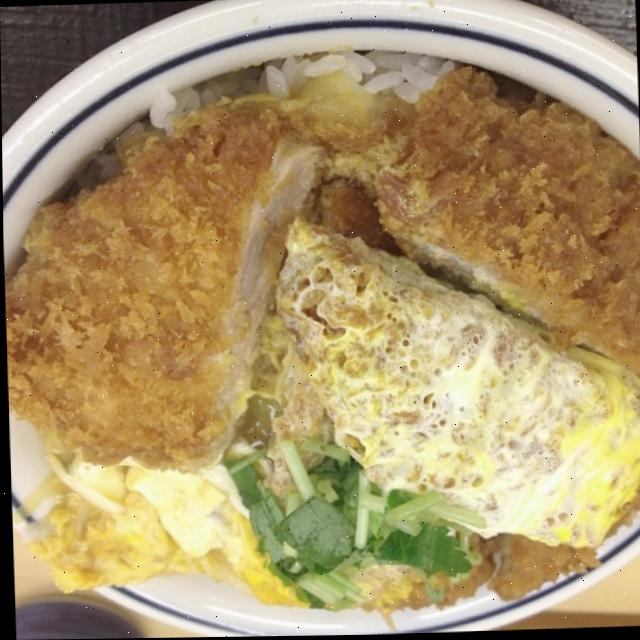牛肉菜式: (0, 23, 640, 640)
